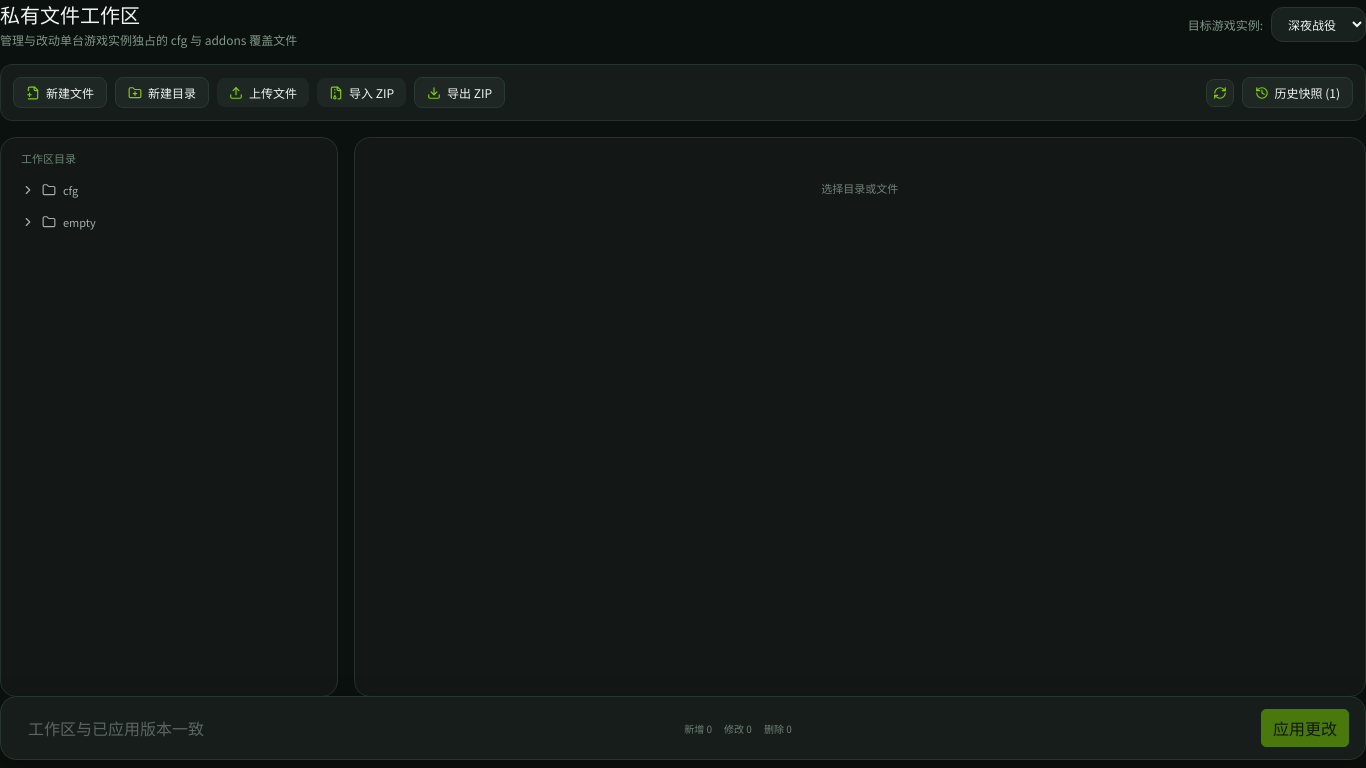
it: PrivateFilesPage › restores snapshots into staged workspace without queueing apply
Click the button "历史快照 (1)" at (1297, 92), box left=1242, top=77, right=1353, bottom=108
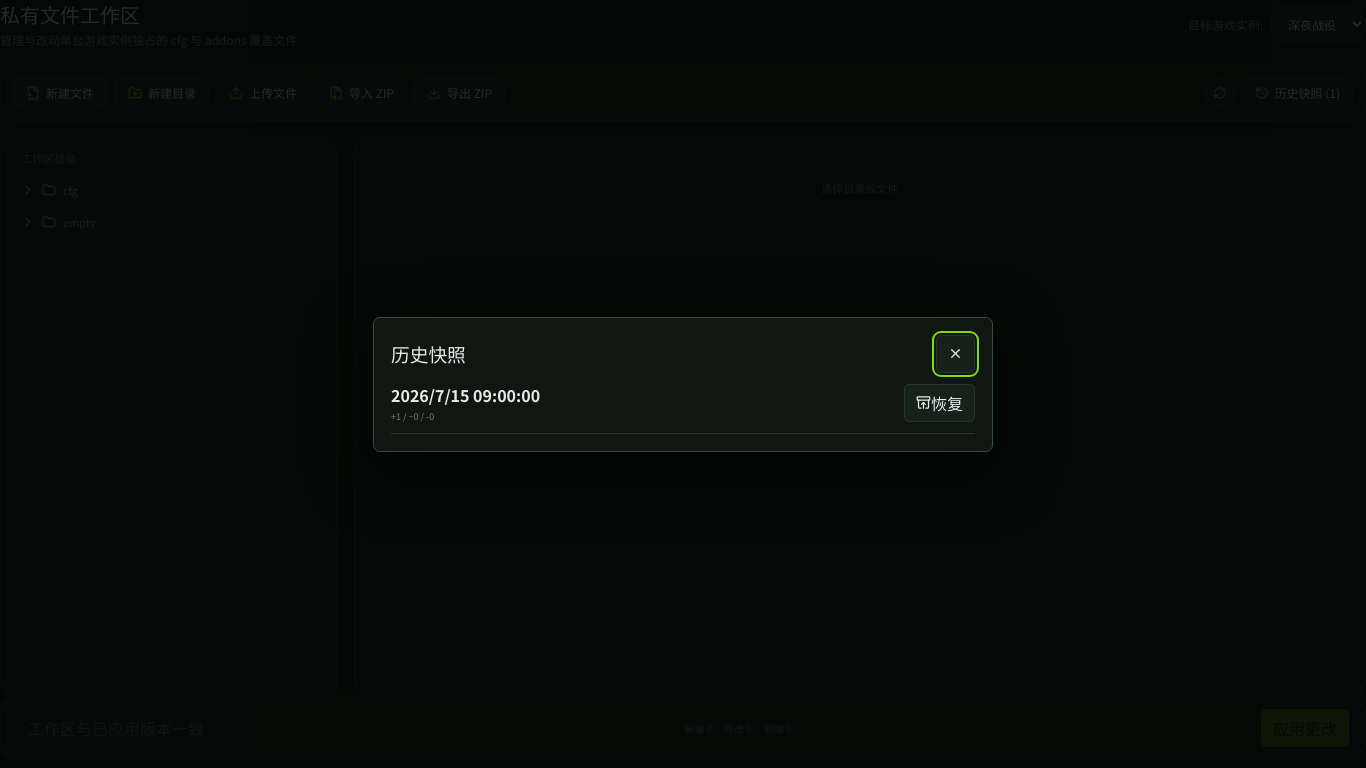
Click the button with aria-label "恢复 2026" at (940, 402), box left=904, top=384, right=975, bottom=422
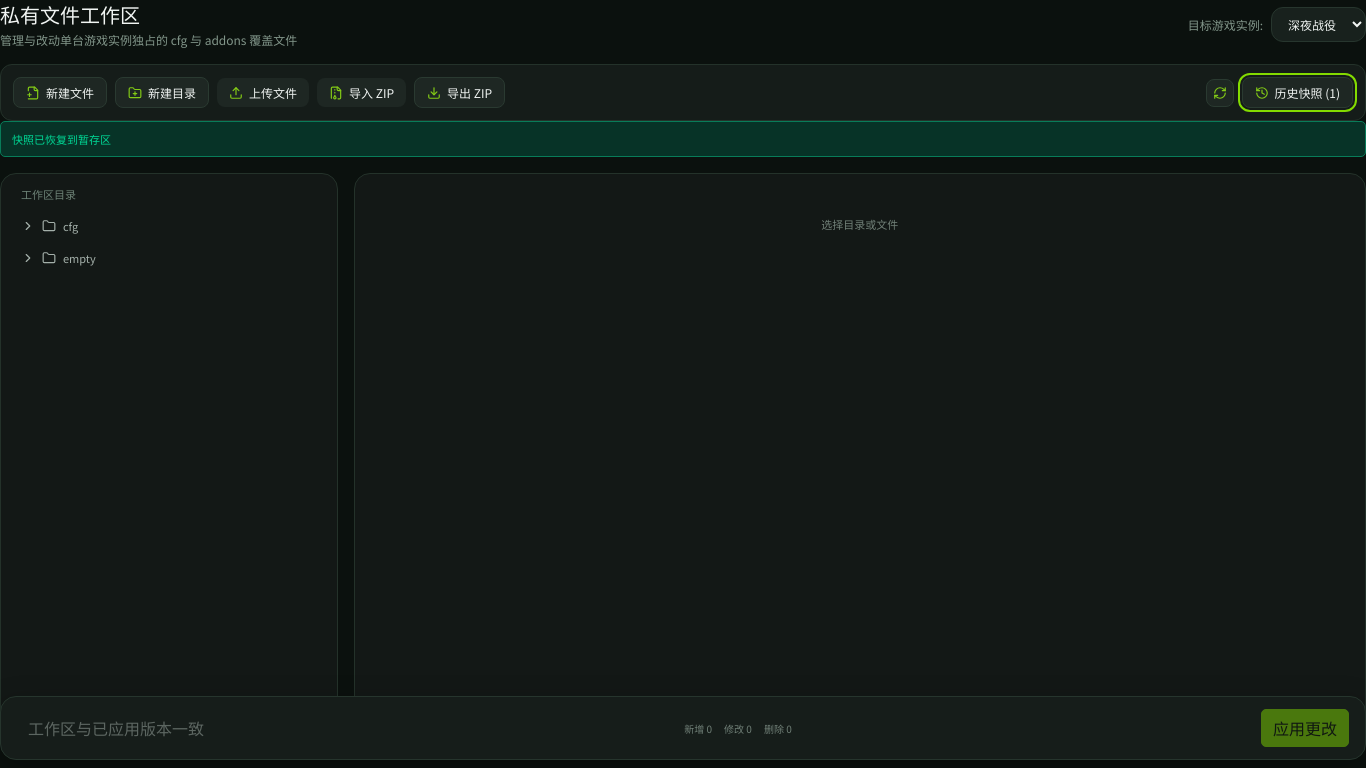
Now the text "快照已恢复到暂存区" is shown, box left=0, top=121, right=1365, bottom=157
